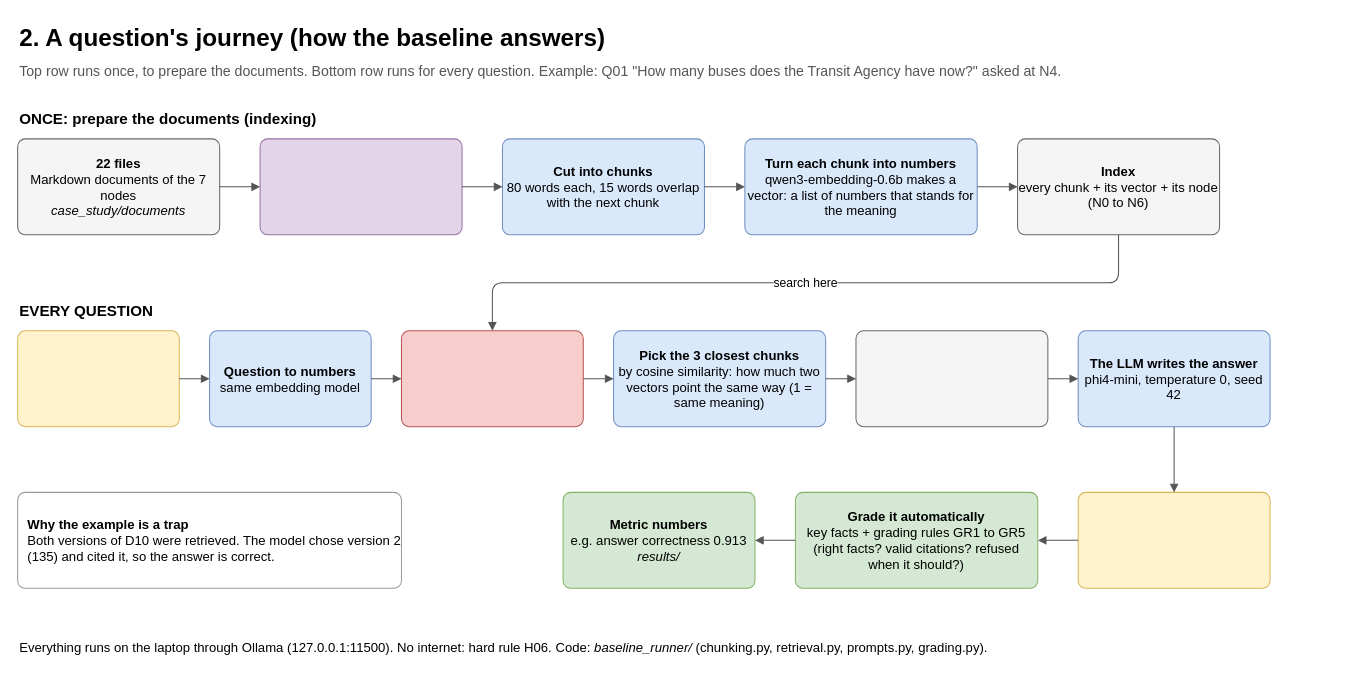
Image size: 1348x691. Some labels were removed from this diagram. Here are the shapes that lost their labels. From the top down, the centre of each, then its label:
[360,186]: Read the scanned page D19 is an image. glm-ocr turns it into text.
[98,378]: Question asked at a node Q01 at N4
[491,378]: Keep only N4's chunks hard rule H01: never another node's documents
[951,378]: Fill the prompt a versioned template from prompts/ : question + 3 chunks + rules
[1173,539]: Answer with citations "135 buses [D10_bus_fleet_inventory_v2]"
